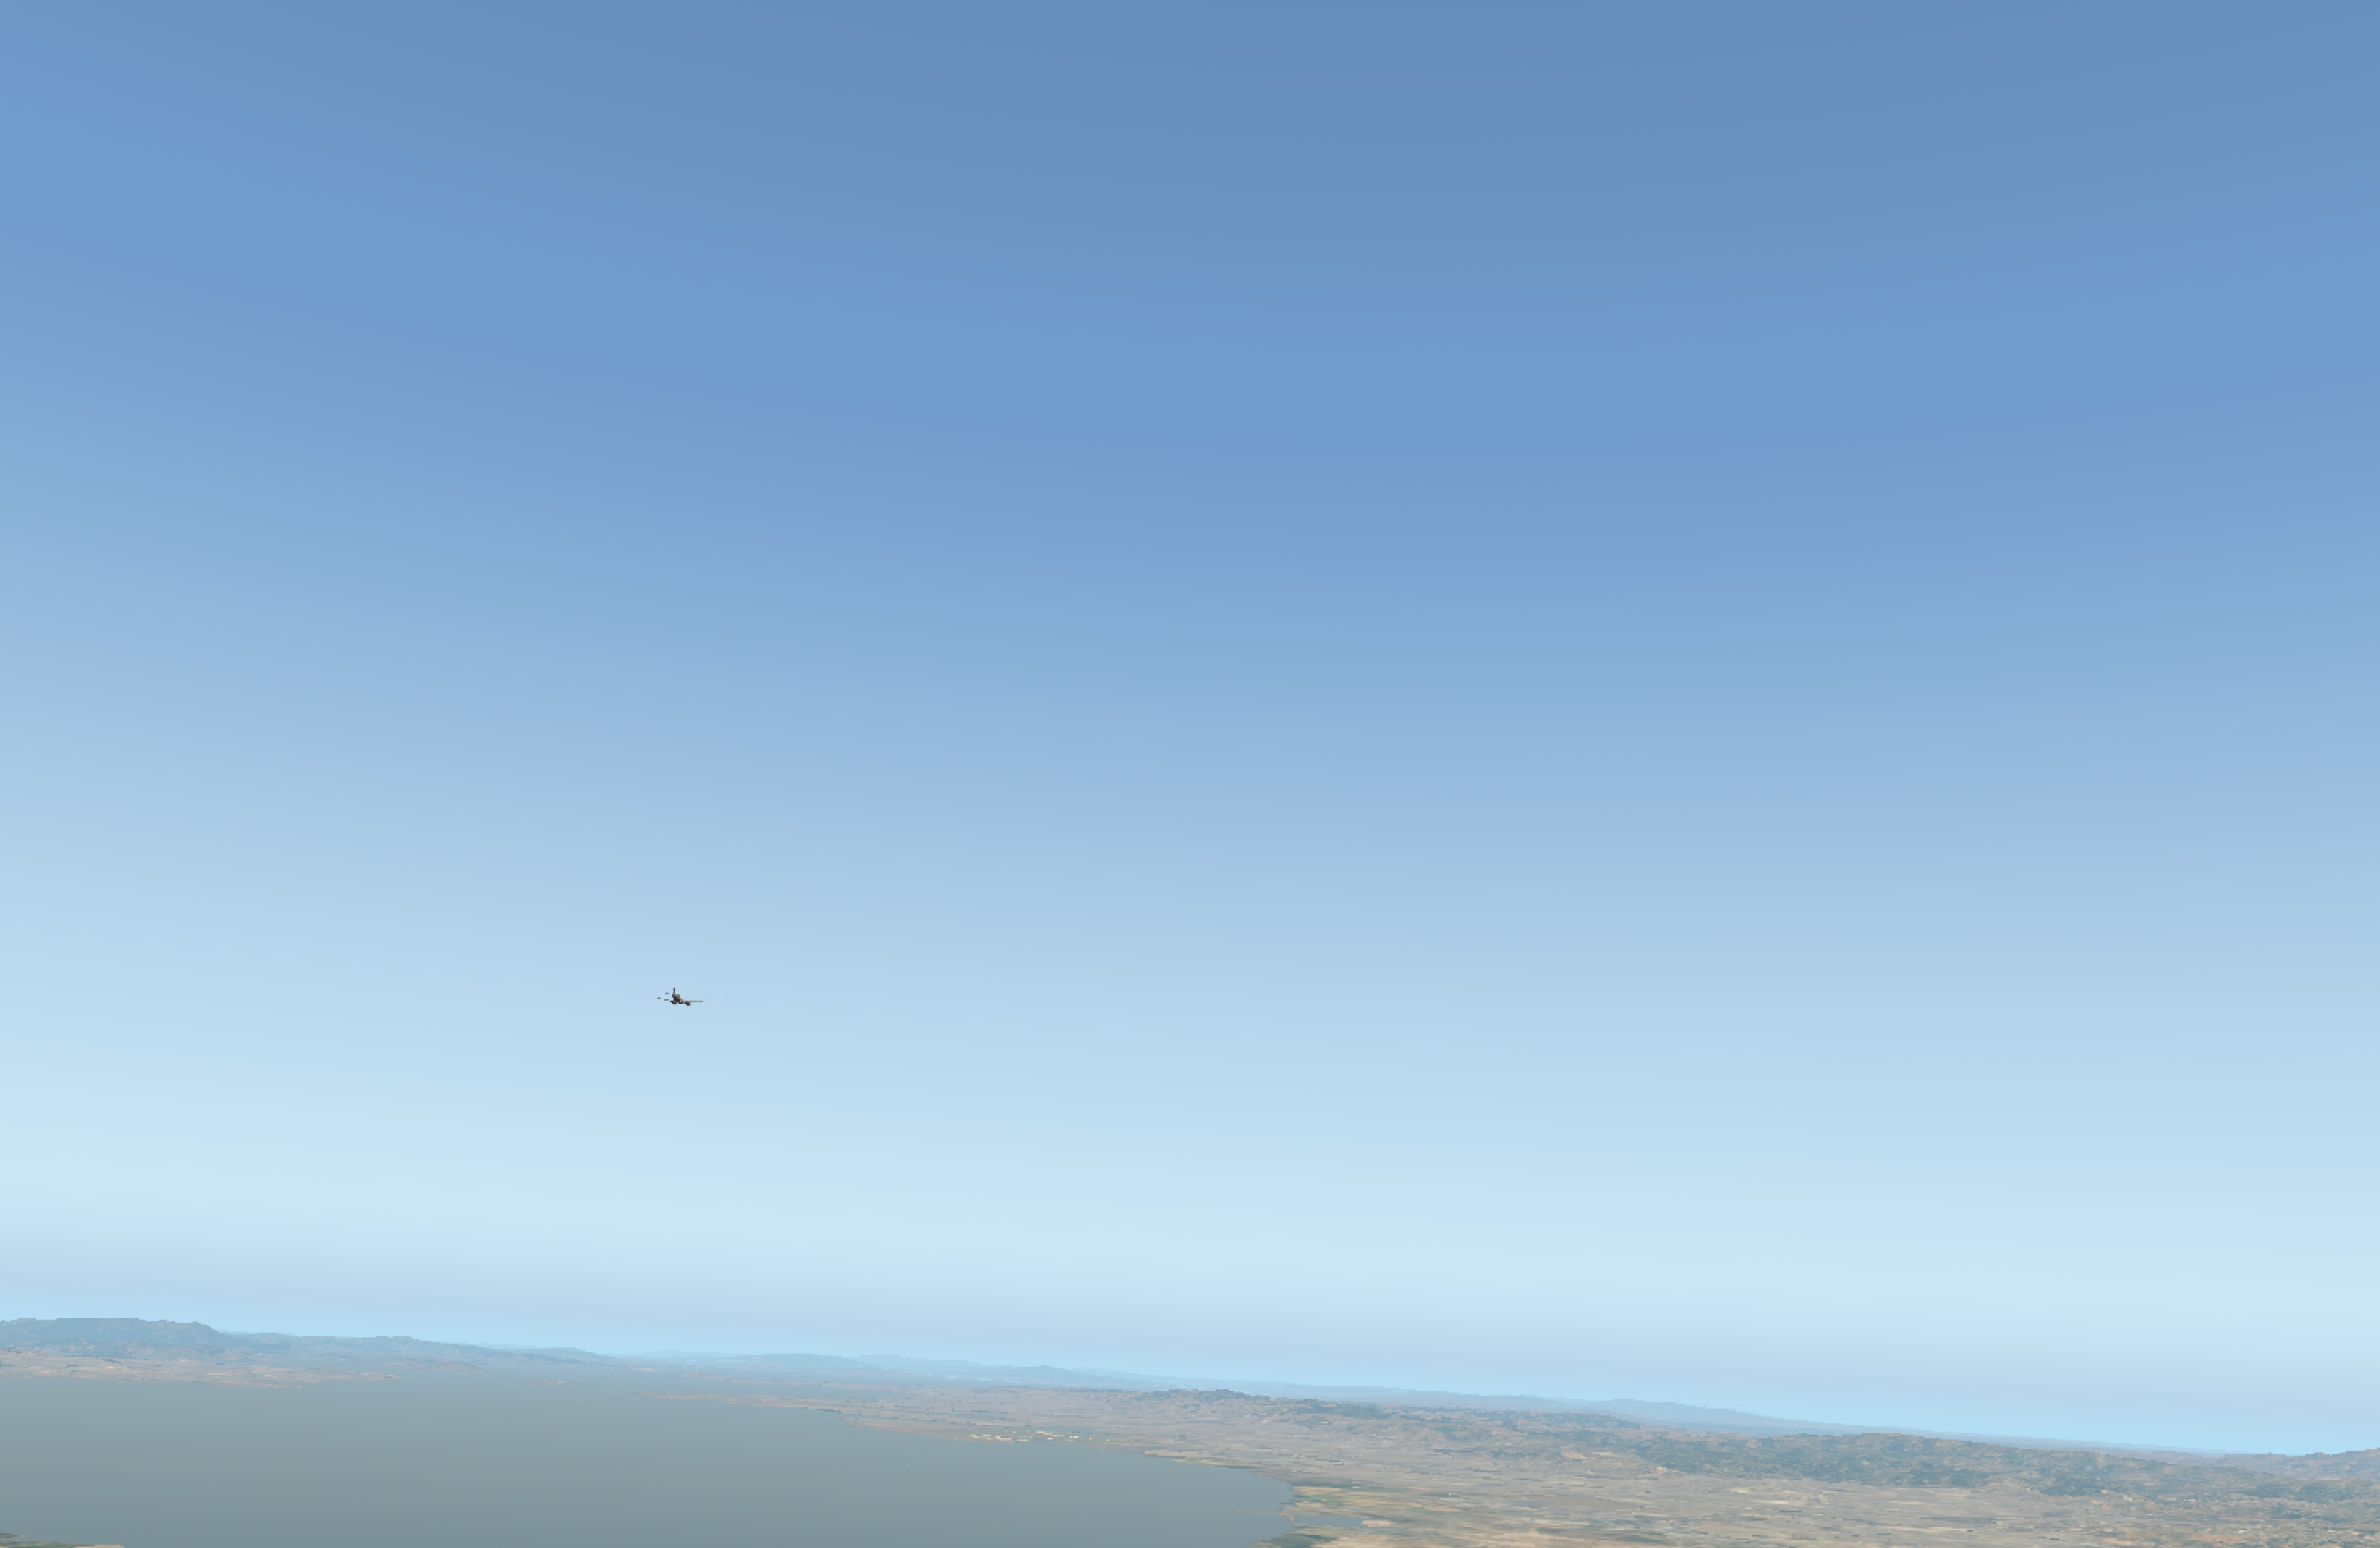aircraft: (652, 993, 706, 1013)
